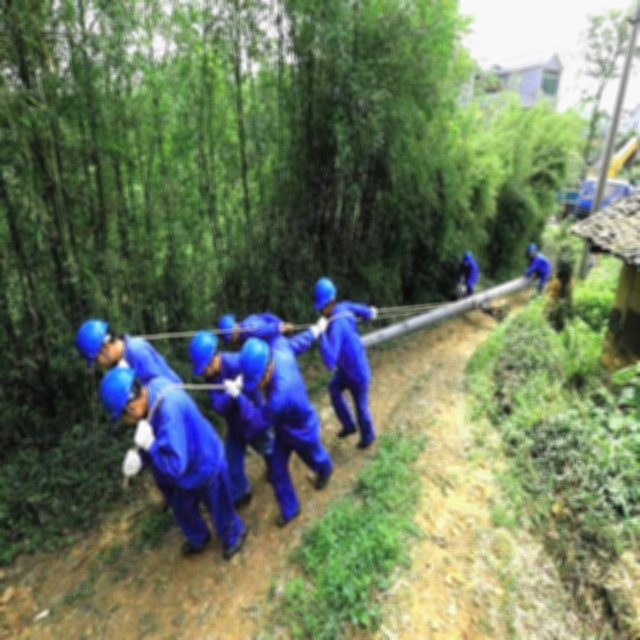Con_Casco: (97, 367, 141, 424), (77, 316, 114, 368), (313, 276, 338, 316)
